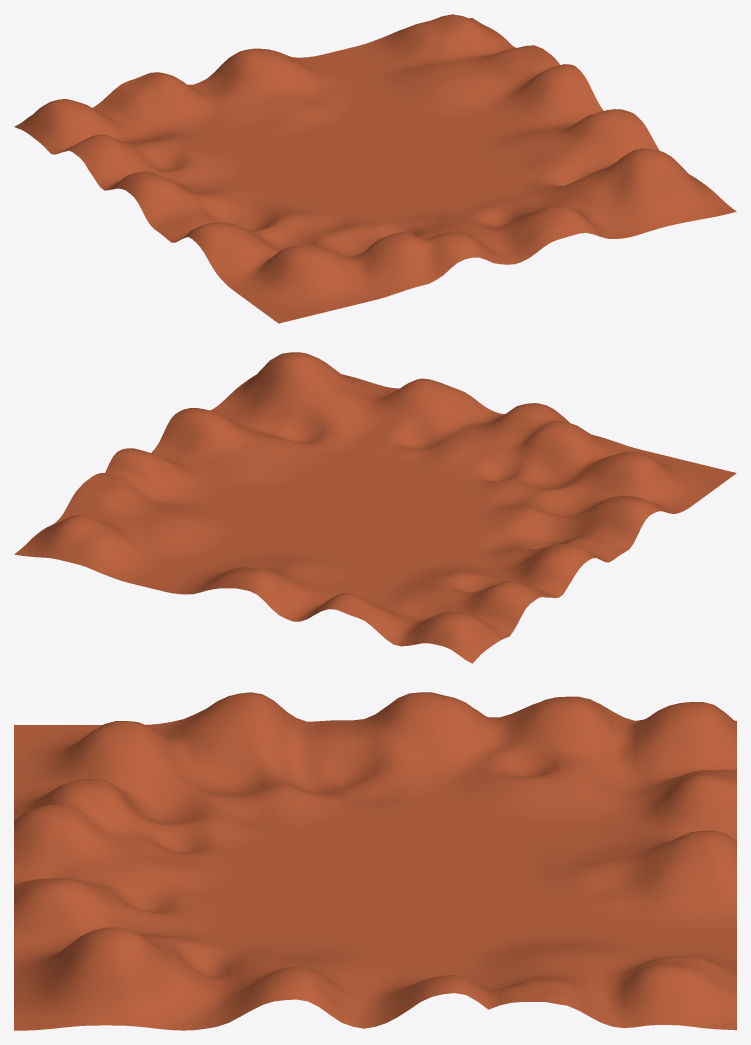
The model's file is Mars.fbx.
3 views of the same model, one above another, from view 1: azimuth 30°, elevation 25°; view 2: azimuth 150°, elevation 25°; view 3: azimuth 270°, elevation 25° (orthographic). The views are drawn at different scales.
Visible parts, largest first — view 1: Plane; view 2: Plane; view 3: Plane.
Part boxes in pixels (x1,y1,x2,y2): Plane: (14, 14, 736, 323); Plane: (14, 352, 736, 663); Plane: (14, 692, 736, 1030).
Bounding box in the file's own units: 2030 × 229 × 2030.
